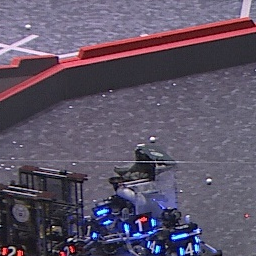Blue: (122, 218, 159, 234), (177, 243, 201, 256), (144, 239, 161, 254)
Red: (1, 245, 24, 256), (58, 244, 76, 256)
Robot: (93, 142, 180, 245), (1, 163, 91, 256), (141, 206, 224, 256)
